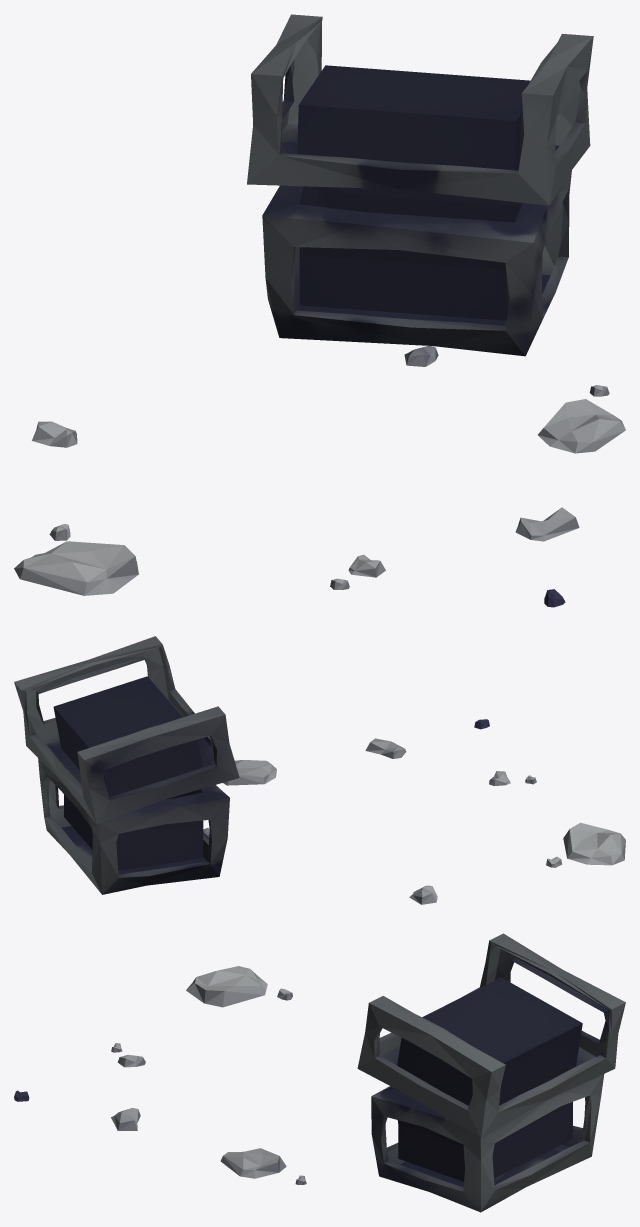
Rendered from Ground_02.FBX.
3 views of the same model, one above another, from view 1: azimuth 30°, elevation 25°; view 2: azimuth 150°, elevation 25°; view 3: azimuth 270°, elevation 25° (orthographic). The views are drawn at different scales.
Parts seen in each view (by area): view 1: Ground_02; view 2: Ground_02; view 3: Ground_02.
Part boxes in pixels (box(x1,y1,x2,y2)): Ground_02: box(14, 14, 625, 607); Ground_02: box(14, 636, 625, 904); Ground_02: box(14, 933, 625, 1212).
Bounding box in the file's own units: 16.06 × 5.31 × 16.27.
